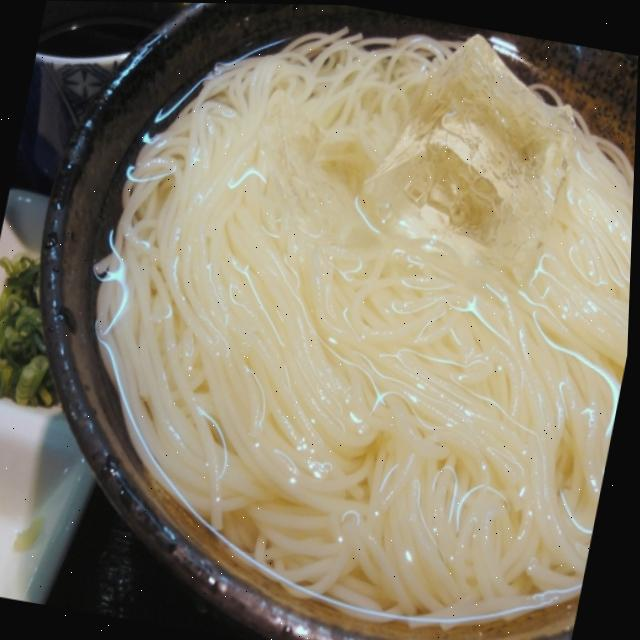面条主食: (27, 1, 640, 640)
